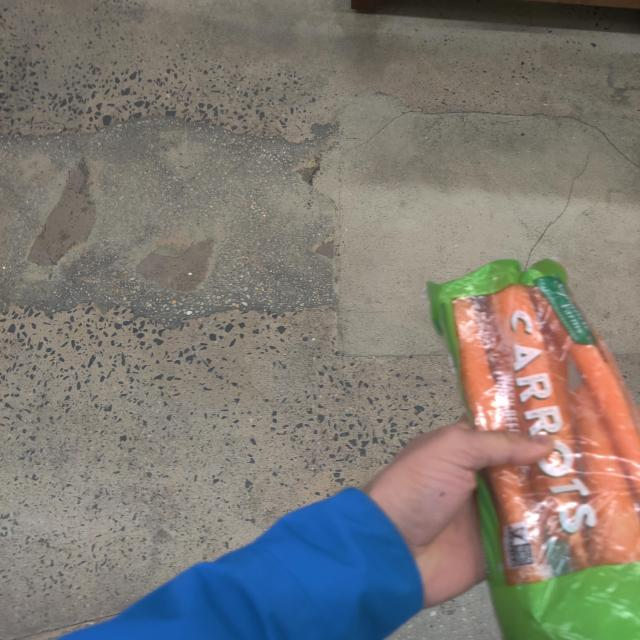Carrots: (430, 260, 640, 640)
